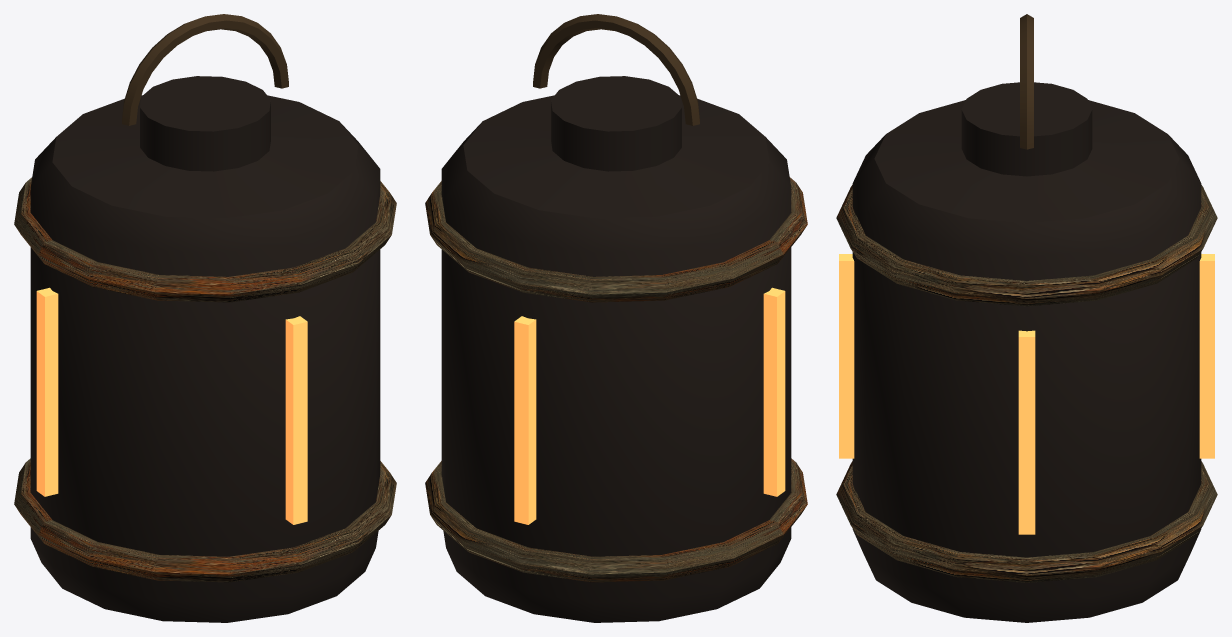
Rendered from ember-container-v01-photo.glb.
3 renders of one model, left to right at view 1: azimuth 30°, elevation 25°; view 2: azimuth 150°, elevation 25°; view 3: azimuth 270°, elevation 25°, orthographic.
Parts seen in each view (by area): view 1: ember-container; view 2: ember-container; view 3: ember-container.
Part boxes in pixels (left/top/right/bottom): ember-container: left=14, top=14, right=396, bottom=622; ember-container: left=425, top=14, right=807, bottom=622; ember-container: left=836, top=14, right=1217, bottom=622.
Bounding box in the file's own units: 0.7 × 1.07 × 0.7.
3 materials, 2 textured.
